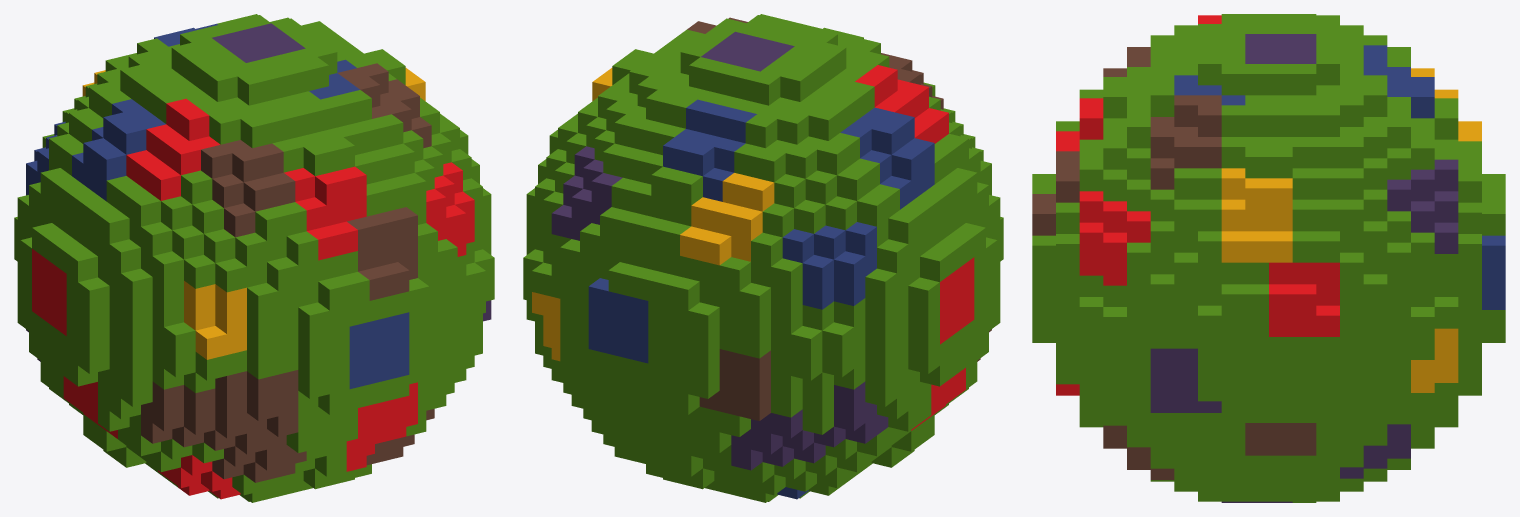
File: Ball.obj
3 views of the same model, side by side, from view 1: azimuth 30°, elevation 25°; view 2: azimuth 150°, elevation 25°; view 3: azimuth 270°, elevation 25° (orthographic). The views are drawn at different scales.
Bounding box in the file's own units: 2 × 2 × 2.
1 material, 1 textured.
